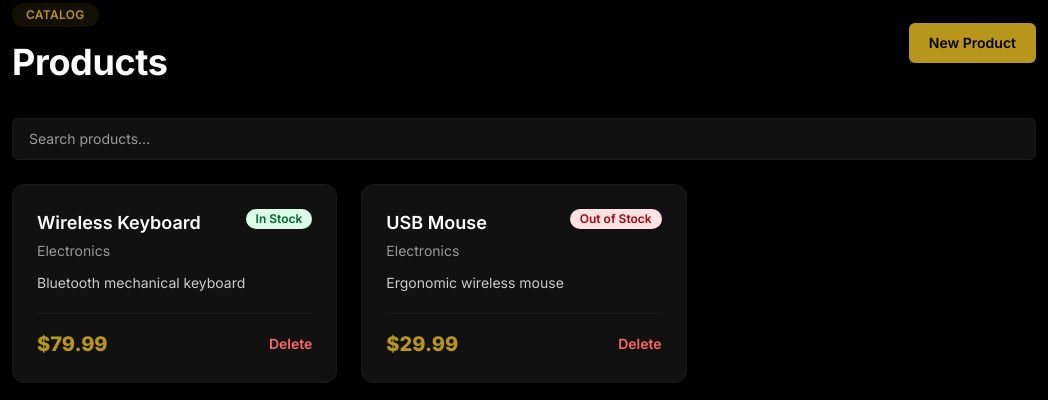
Test: ProductList › shows a no-match message when the search matches nothing
Expected: the link "Wireless Keyboard" is shown, [37, 212, 201, 233]
Type "nonexistent-xyz" into the search field labelled "Search products…". click: (524, 139)
box: [12, 118, 1036, 160]
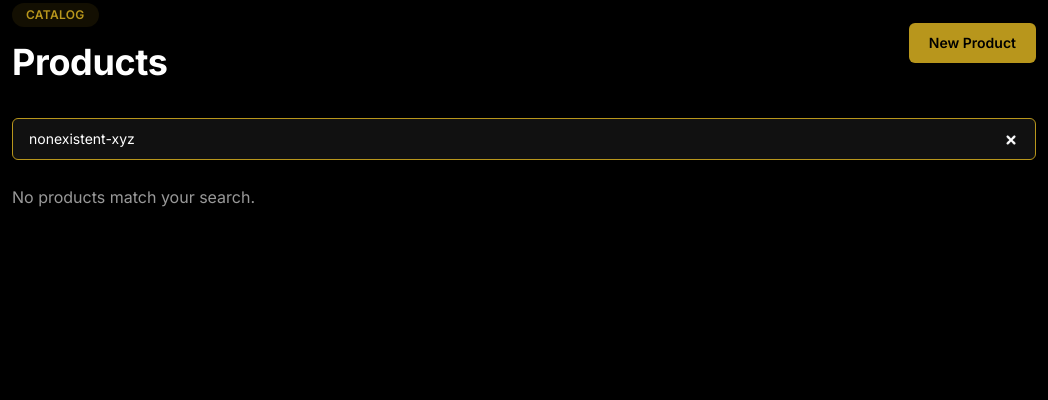
Expected: the text "No products match your search." is shown, [12, 187, 255, 207]
Expected: the link "Wireless Keyboard" is gone
Expected: the link "USB Mouse" is gone
